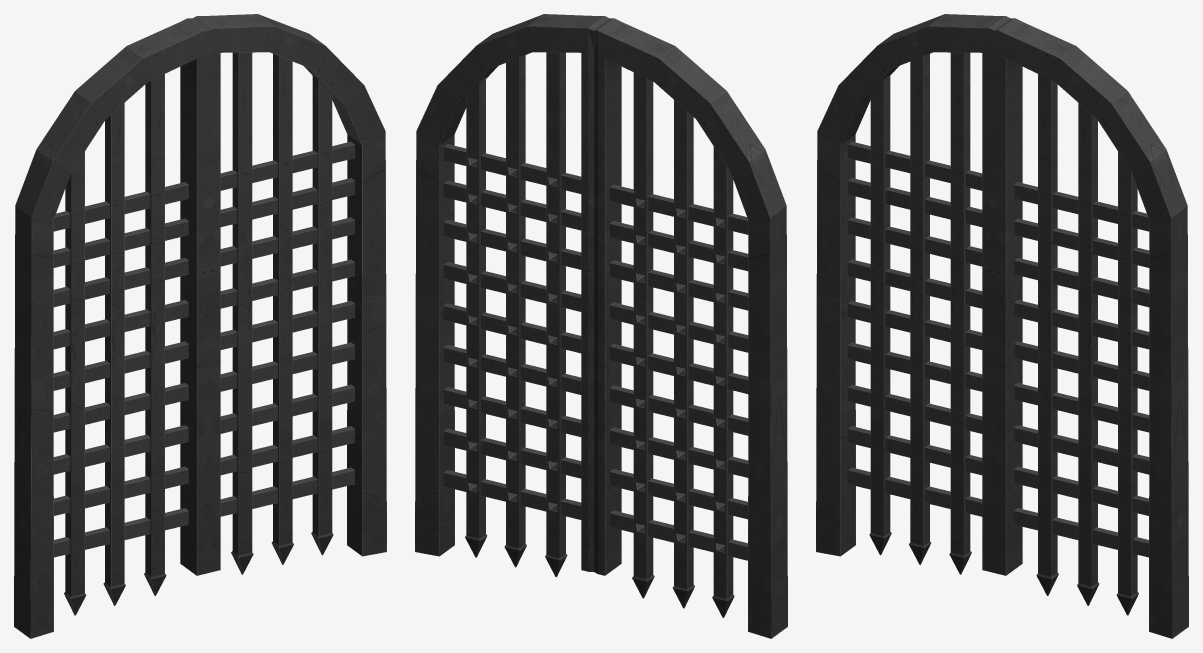
The model's file is CastleDoor_A.fbx.
3 renders of one model, left to right at view 1: azimuth 30°, elevation 25°; view 2: azimuth 150°, elevation 25°; view 3: azimuth 330°, elevation 25°, orthographic.
Parts seen in each view (by area): view 1: CastleDoor_A; view 2: CastleDoor_A; view 3: CastleDoor_A.
Boxes of the visible parts, box(x1,y1,x2,y2) form: CastleDoor_A: box(14, 14, 386, 638); CastleDoor_A: box(415, 14, 787, 638); CastleDoor_A: box(816, 14, 1188, 638).
Size of the model in its own units: 1233 by 1872 by 99.42.
Materials: 1 (1 with a texture image).
